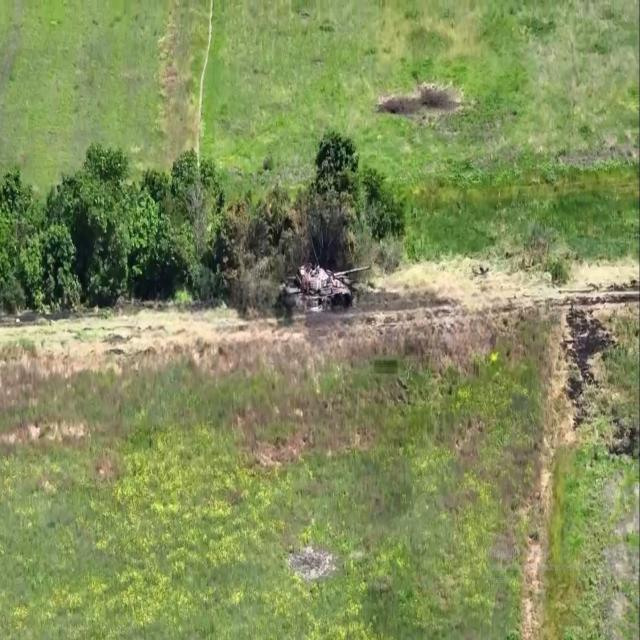MBT: (275, 260, 373, 320)
